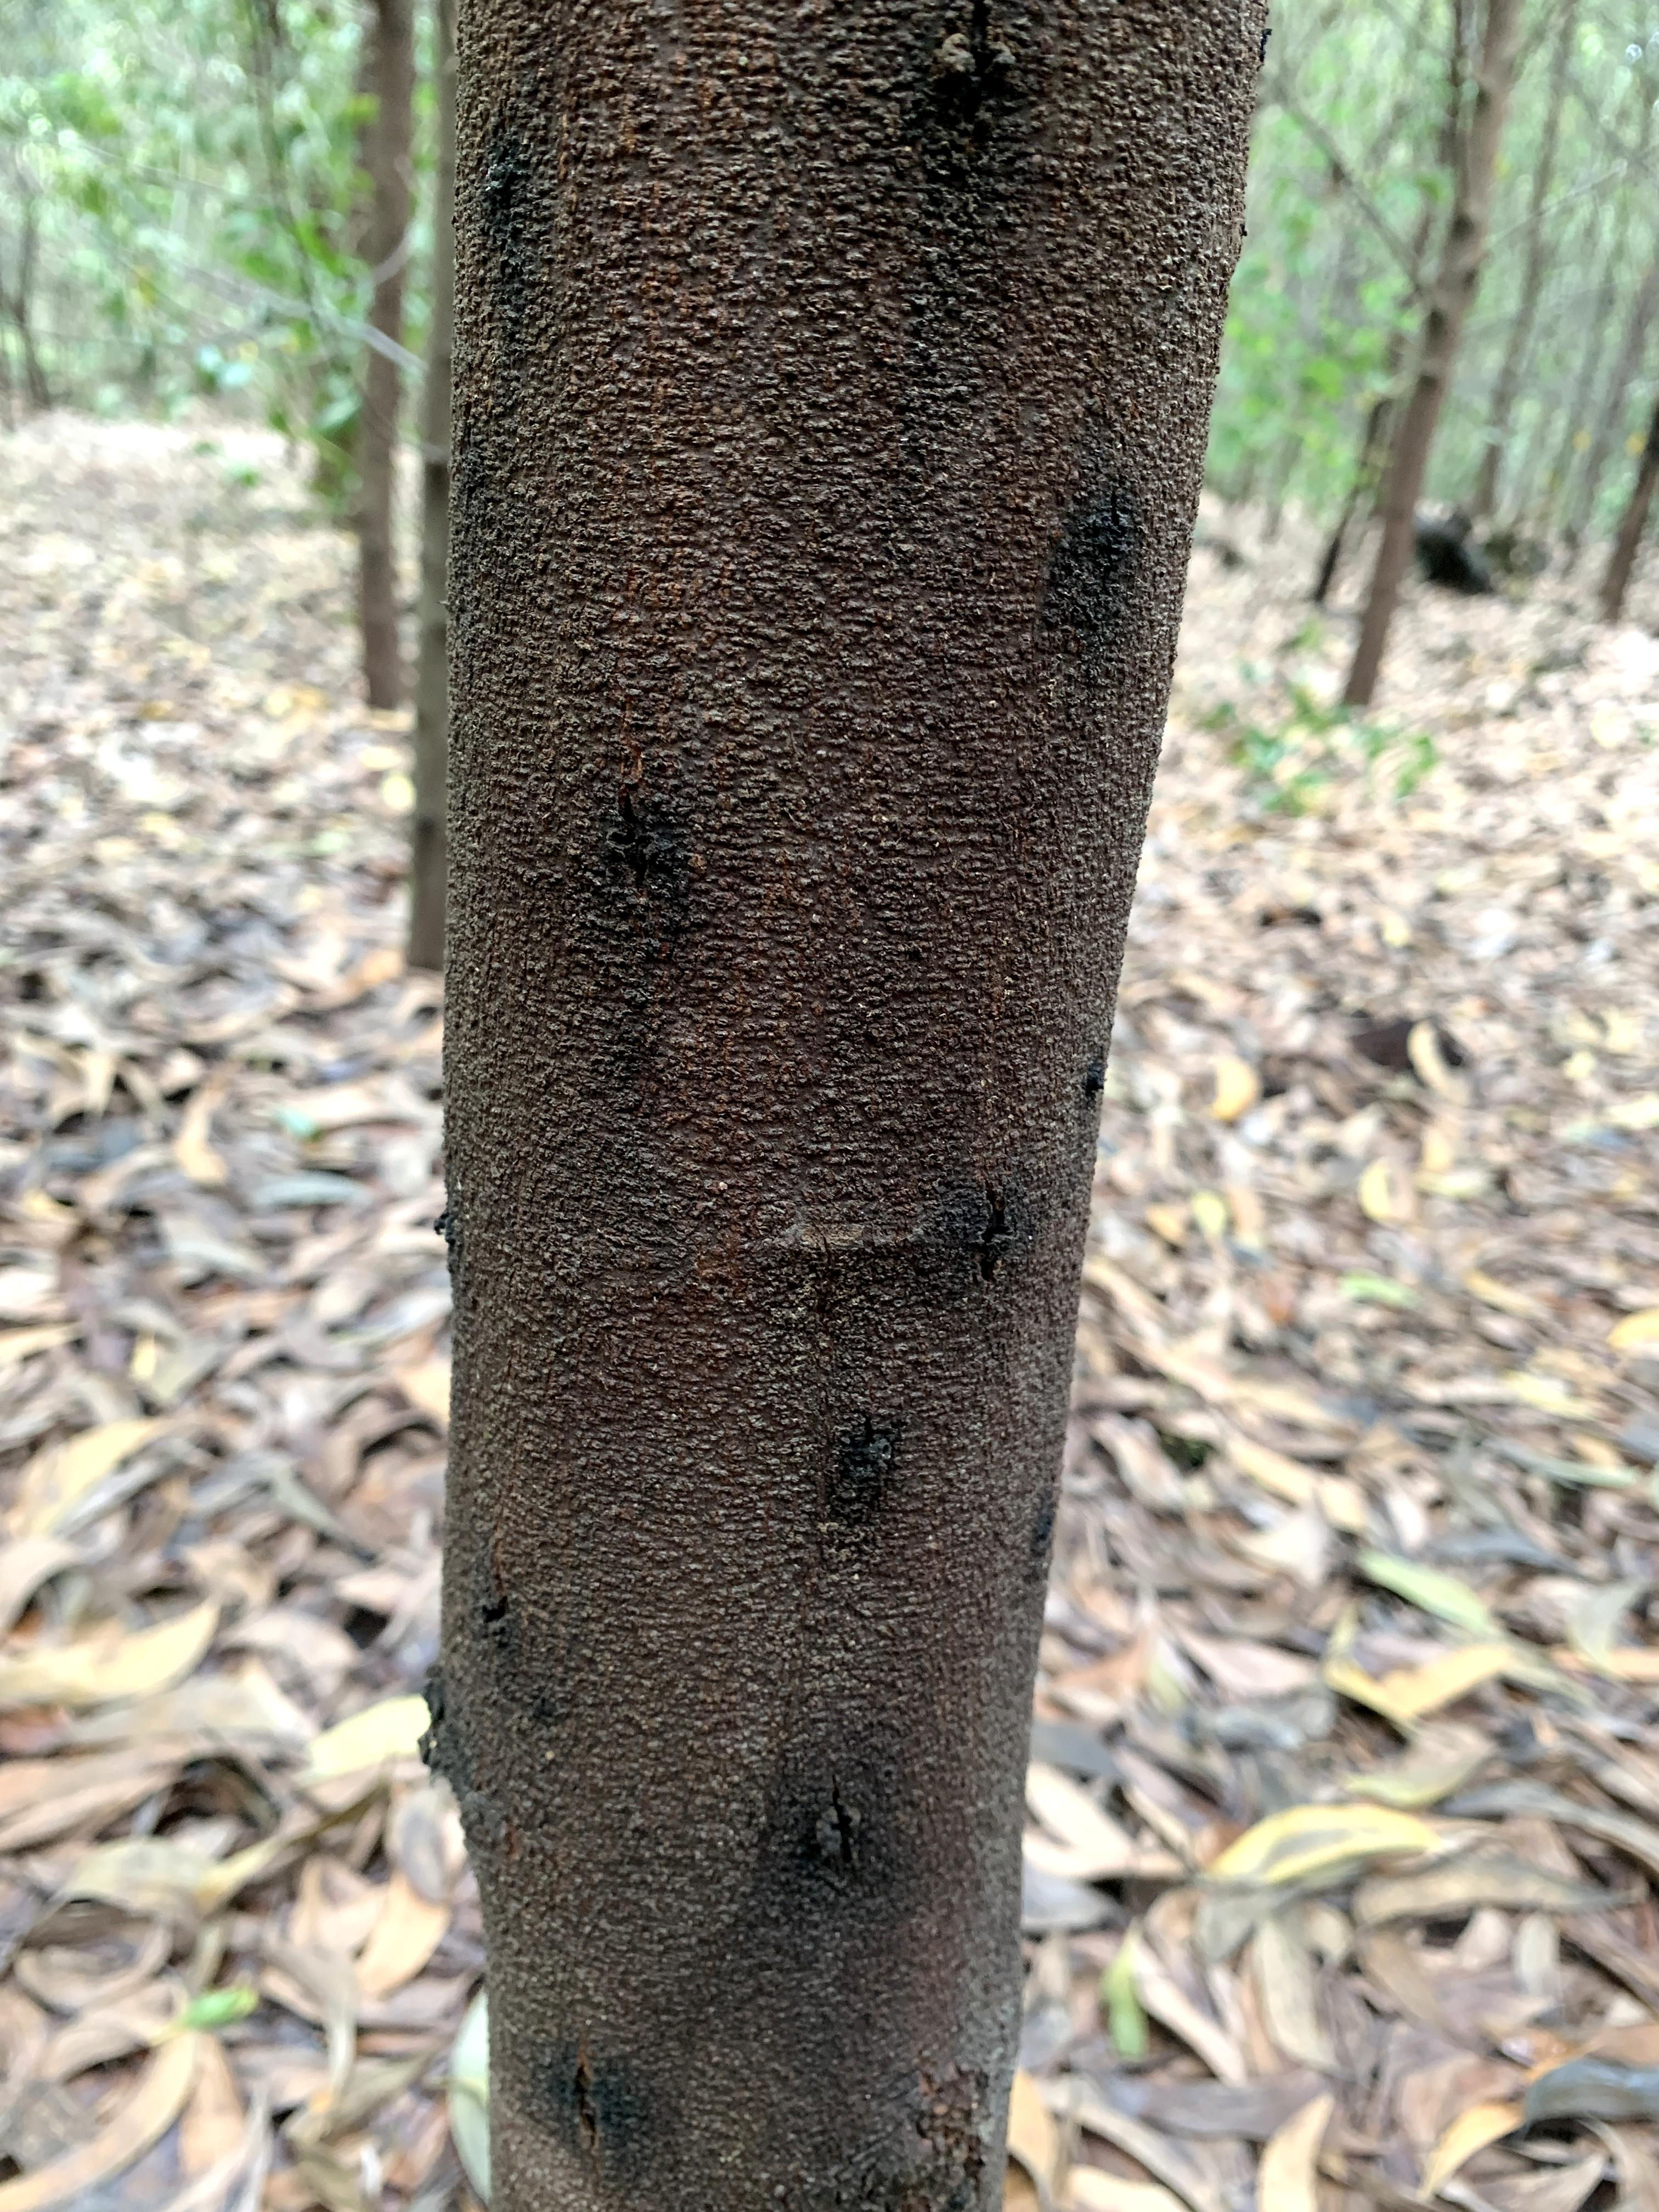Stem Borer: (423, 132, 587, 458), (856, 0, 1098, 209), (1040, 467, 1185, 733), (532, 777, 714, 970), (512, 2019, 666, 2182), (767, 1784, 906, 1956), (422, 1536, 572, 1695), (941, 1143, 1054, 1315), (809, 1399, 910, 1552), (1058, 1007, 1147, 1170), (592, 991, 692, 1113)
